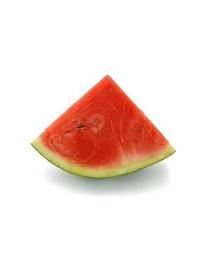watermelon: (31, 74, 176, 180)
